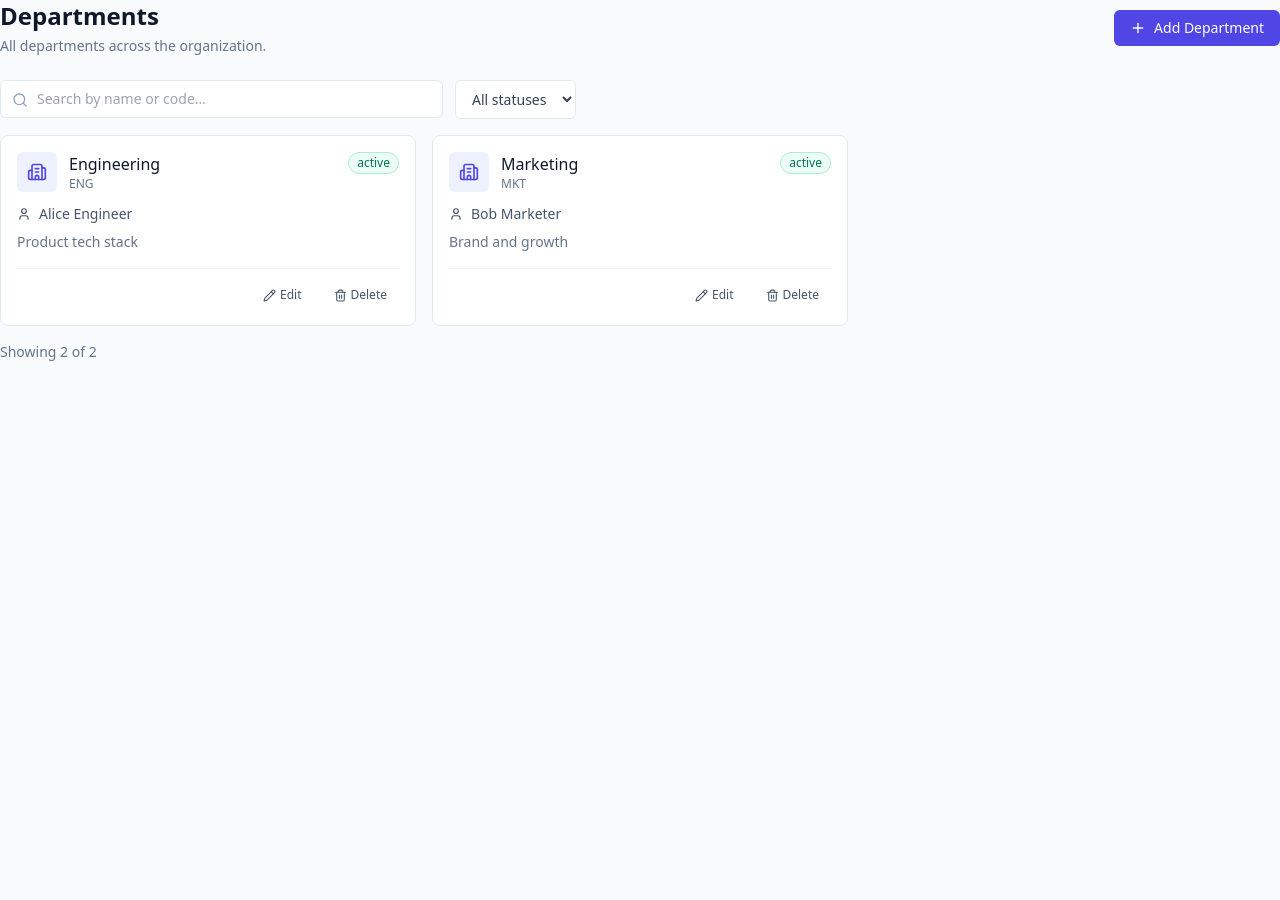
Test case: DepartmentsPage - CRUD Workflows › Add and Edit Workflows › shows error feedback when Add Department API fails and preserves modal state
Expected: the text "Engineering" is shown, [69,152,160,176]
Click the button "Add Department" at {"x": 1197, "y": 28}, box [1114,10,1279,46]
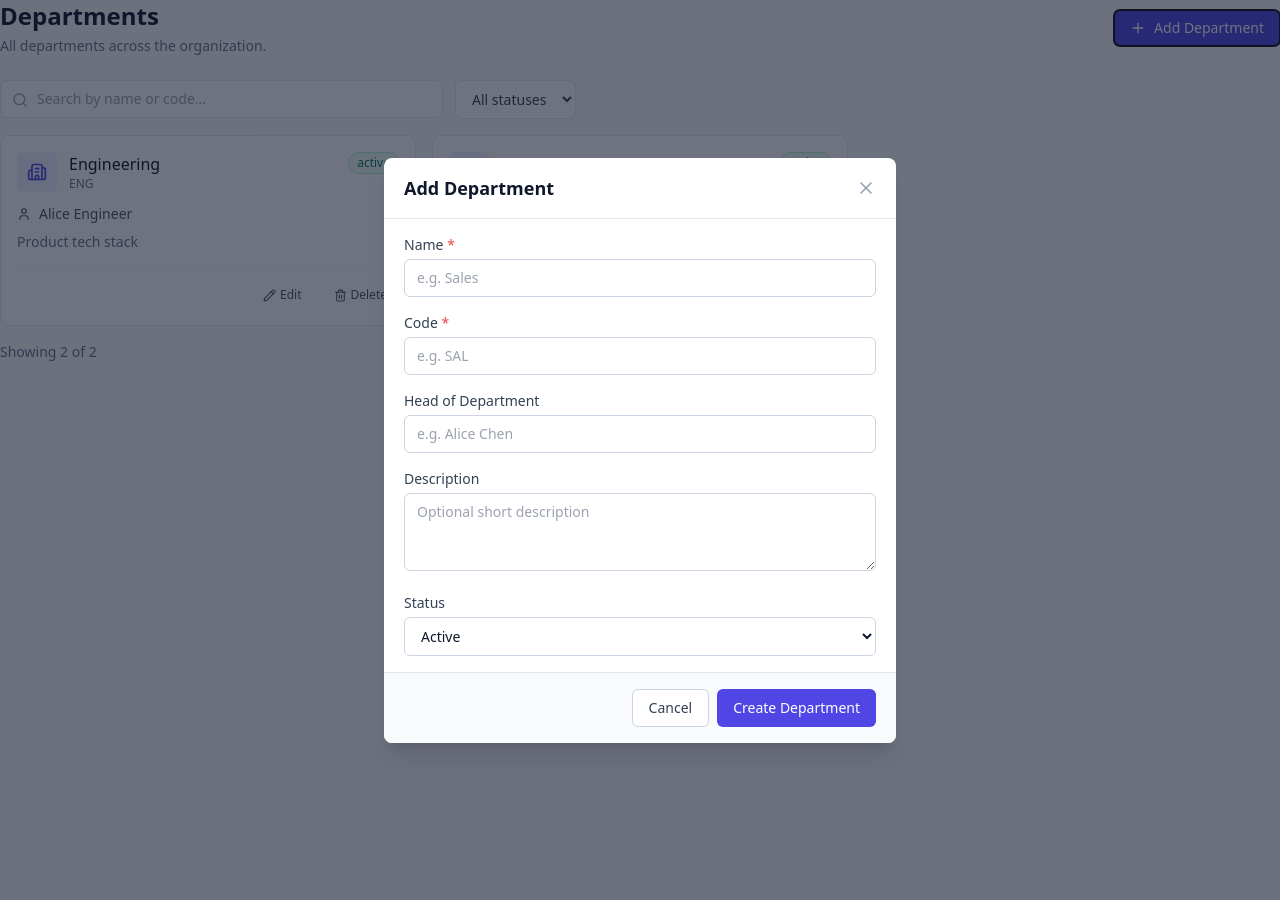
Type "Duplicate Dept" into the field labelled "Name *" at {"x": 640, "y": 278}, box [404,258,876,296]
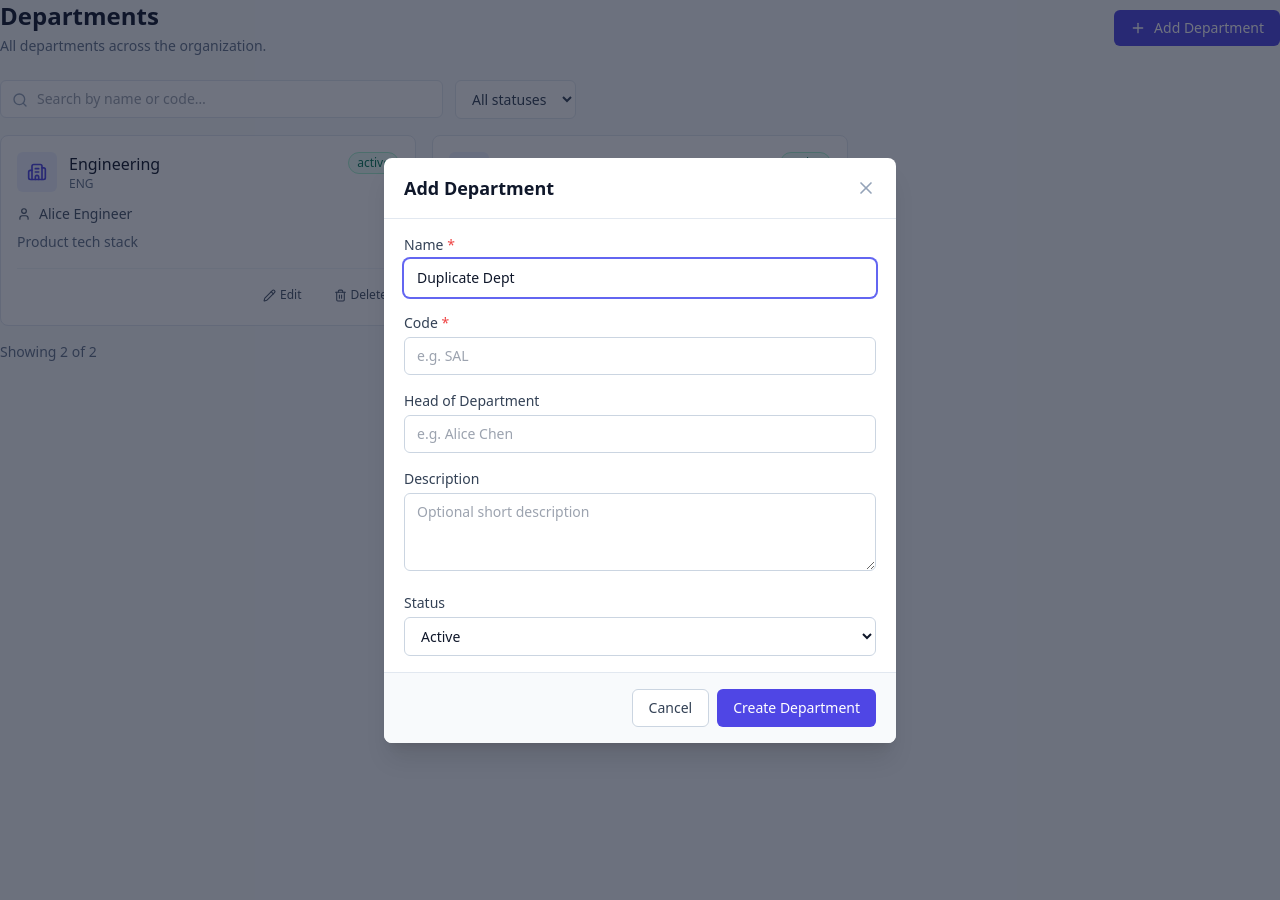
Type "eng" into the field labelled "Code *" at {"x": 640, "y": 356}, box [404,336,876,374]
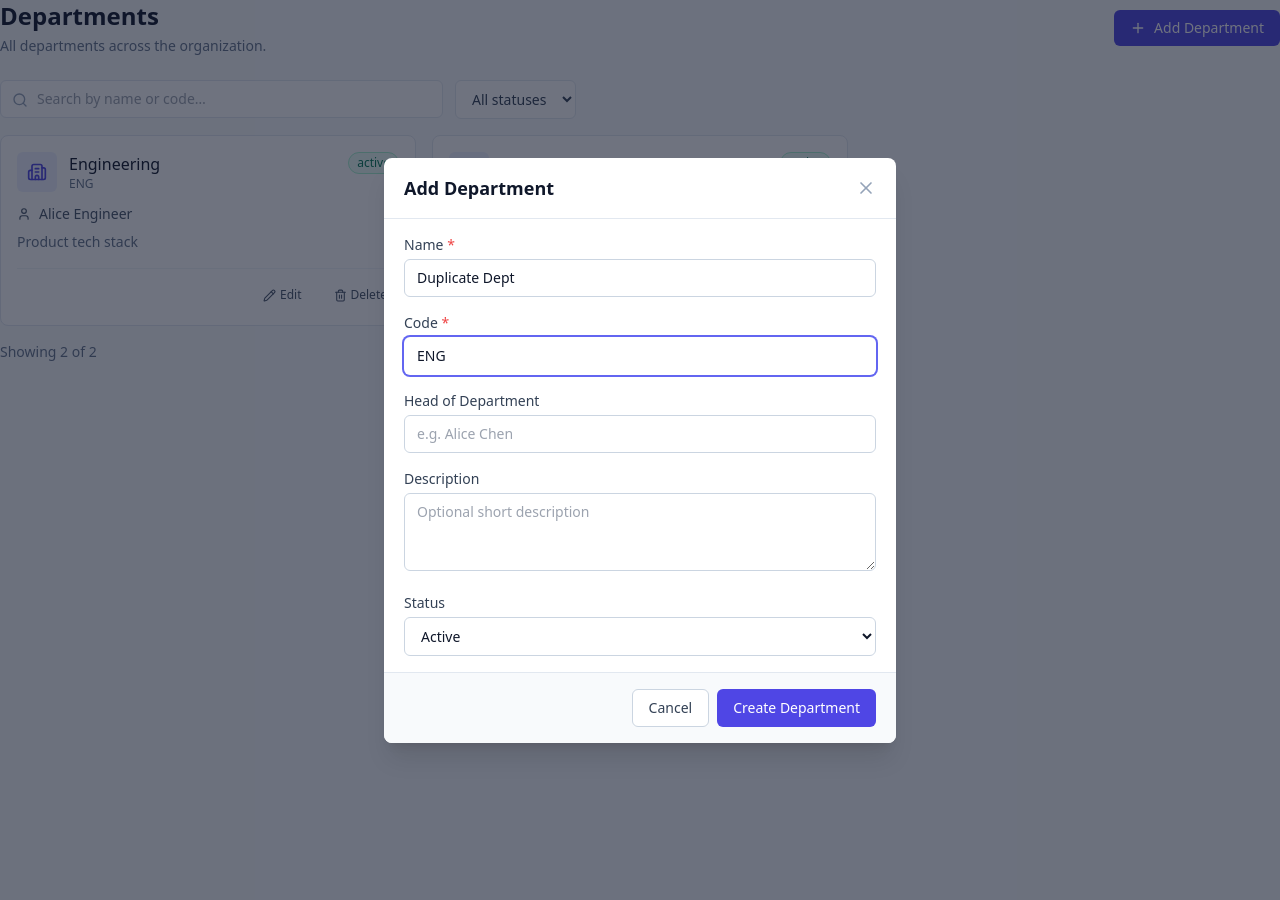
Click the button "Create Department" at {"x": 797, "y": 708}, box [717,688,876,726]
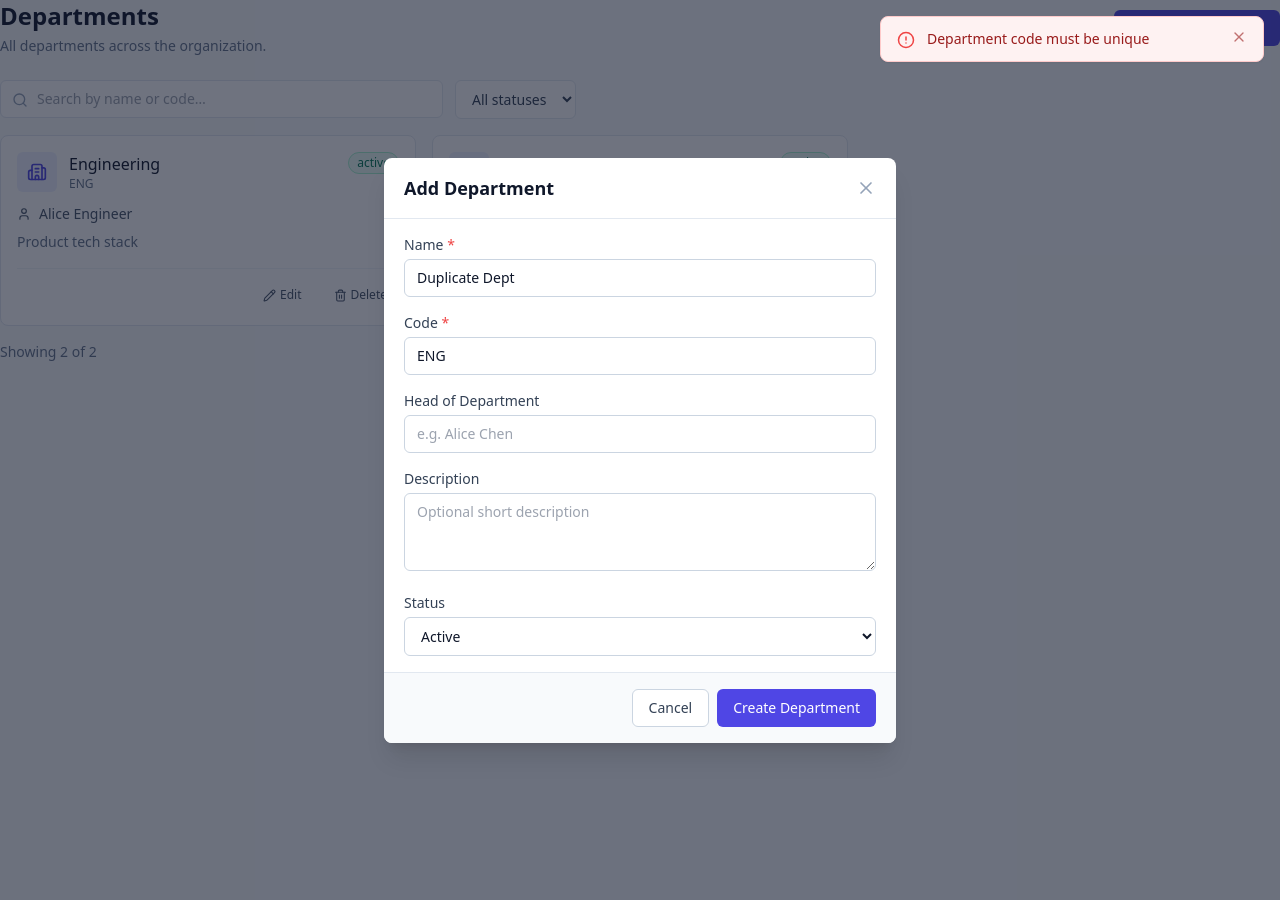
Expected: the heading "Add Department" is shown, [404,174,554,202]
Expected: the text "Department code must be unique" is shown, [927,29,1150,48]
